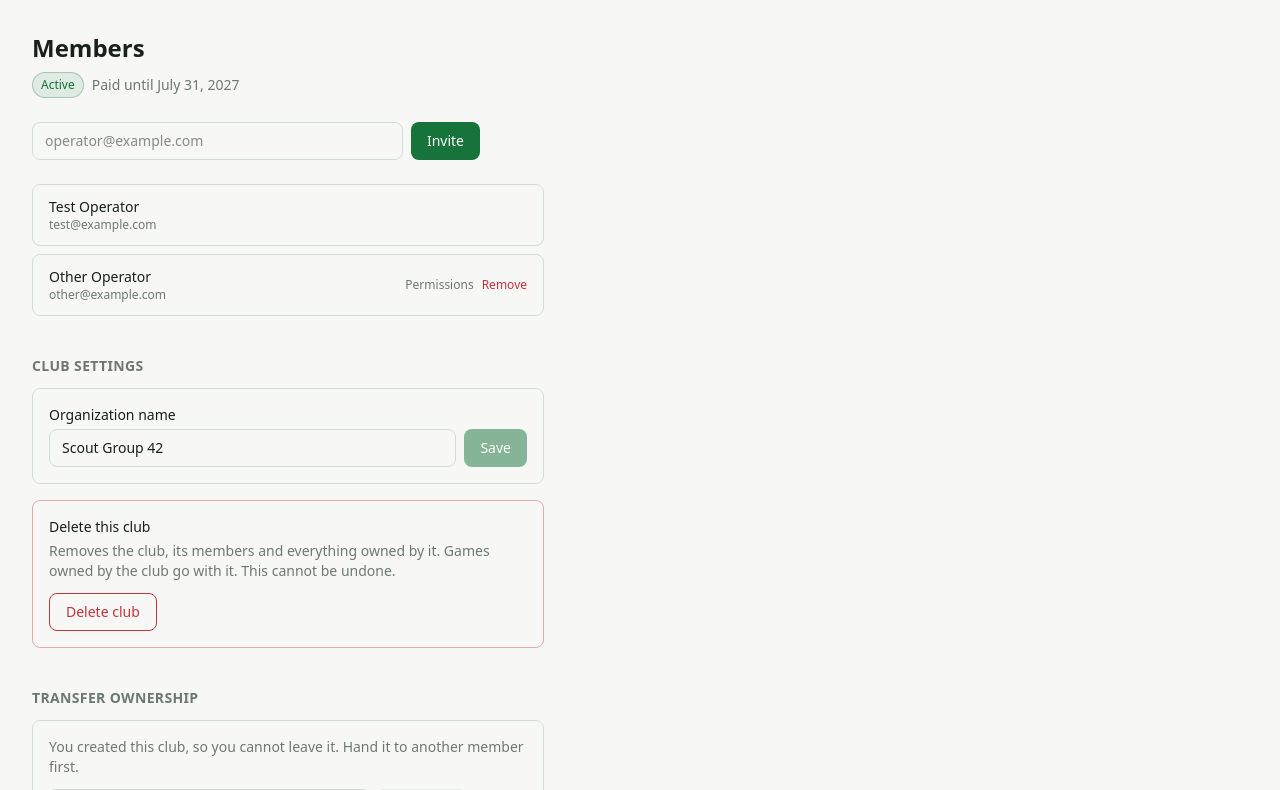
Test: MemberPermissionsDialog › traps focus in a real modal dialog and closes on Escape
Check: the text "Other Operator" is shown, box [49, 267, 166, 287]
Click the button "Permissions". click: (439, 285)
box: [405, 277, 474, 293]
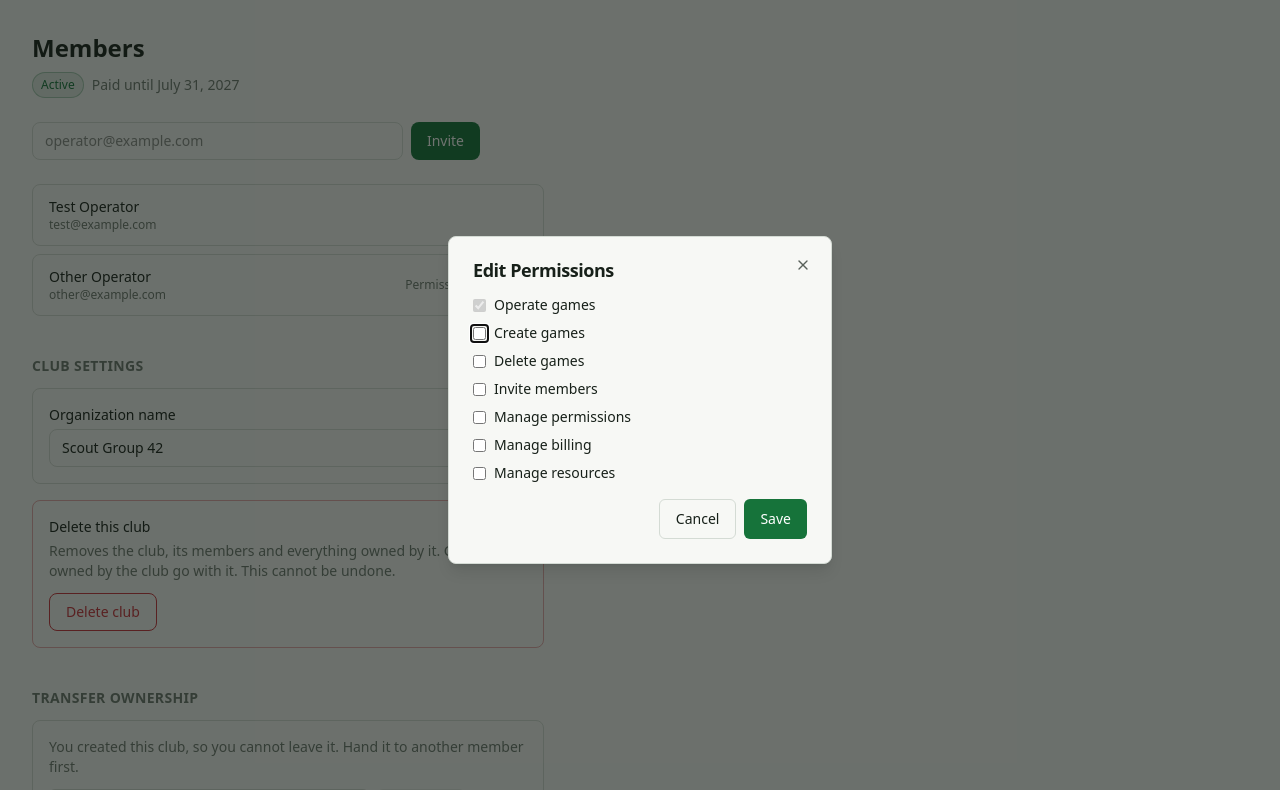
Press Escape
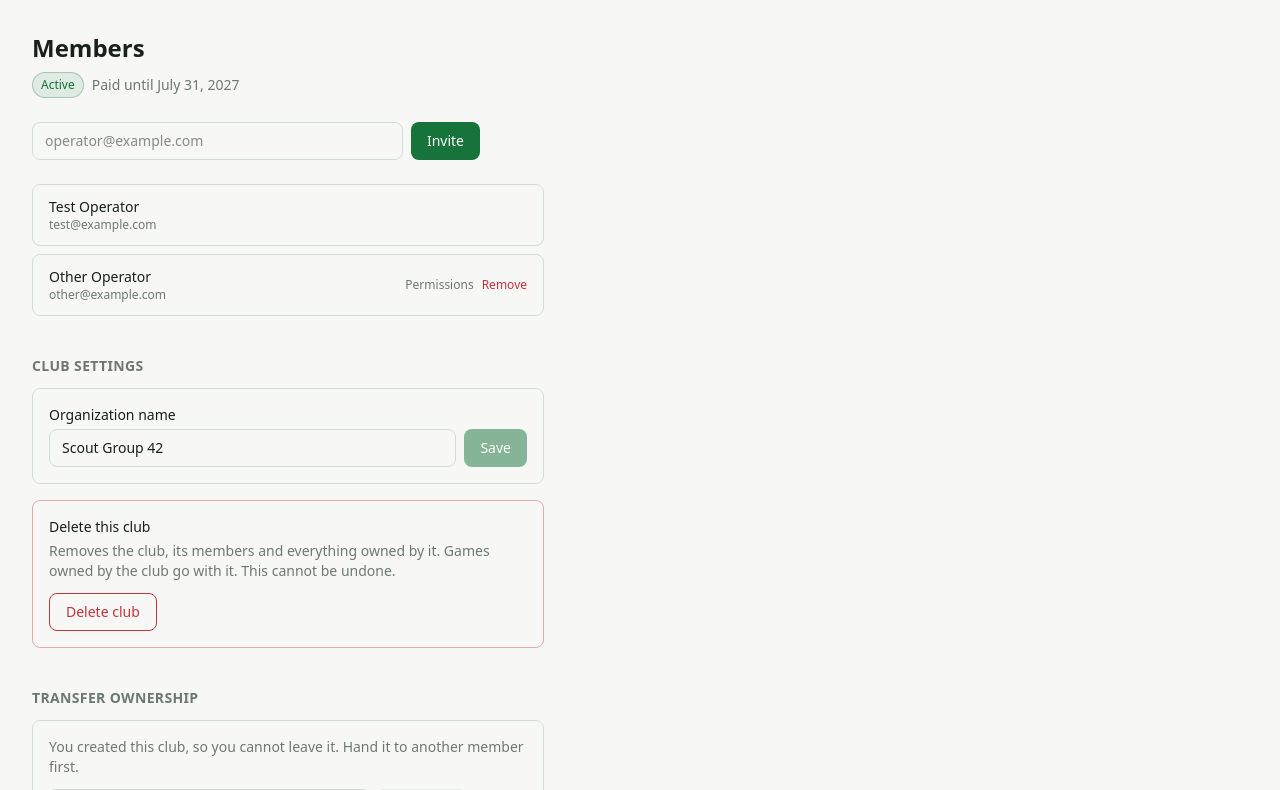
Check: the dialog is gone
